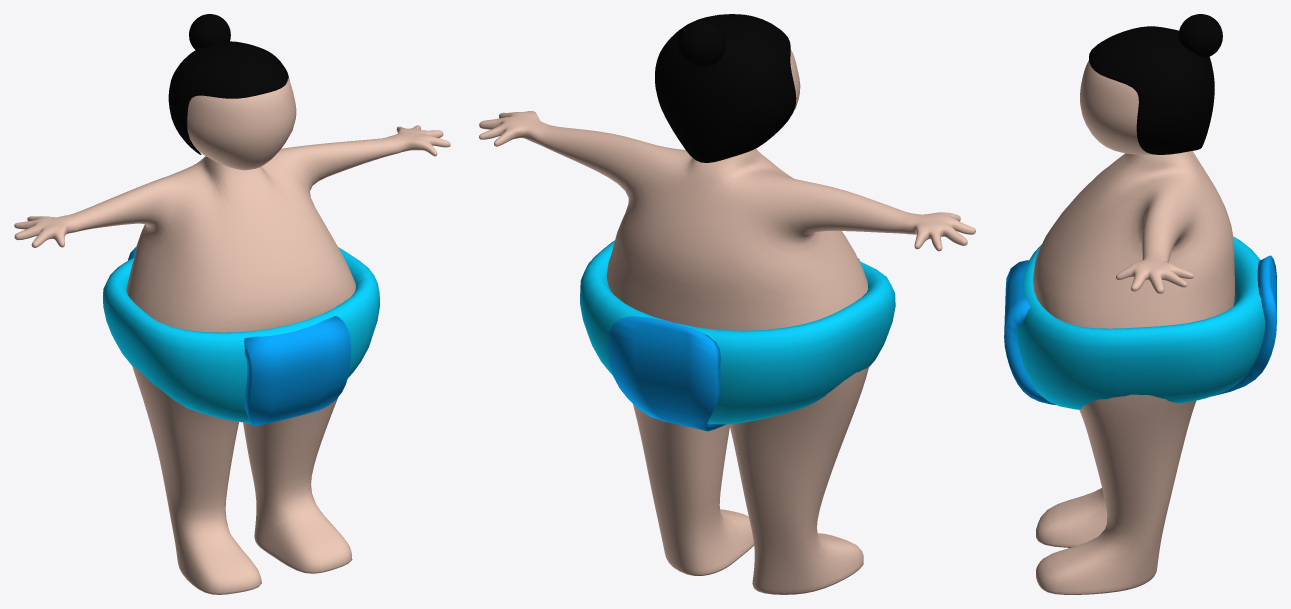
Rendered from semi sumo 5.fbx.
3 views of the same model, side by side, from view 1: azimuth 30°, elevation 25°; view 2: azimuth 150°, elevation 25°; view 3: azimuth 270°, elevation 25° (orthographic). The views are drawn at different scales.
Visible parts, largest first — view 1: Cube.029, Cube.028, Cube.027, Cube.030, Cube.026, Sphere.005; view 2: Cube.029, Cube.028, Cube.026, Cube.027, Sphere.005; view 3: Cube.029, Cube.028, Cube.026, Cube.027, Cube.030, Sphere.005.
Part boxes in pixels (x1=…): Cube.029: x1=14, y1=125, x2=450, y2=594; Cube.028: x1=103, y1=247, x2=379, y2=422; Cube.027: x1=128, y1=247, x2=351, y2=426; Cube.030: x1=187, y1=78, x2=296, y2=170; Cube.026: x1=168, y1=41, x2=289, y2=154; Sphere.005: x1=189, y1=14, x2=230, y2=49; Cube.029: x1=479, y1=111, x2=975, y2=594; Cube.028: x1=580, y1=240, x2=895, y2=424; Cube.026: x1=655, y1=14, x2=796, y2=162; Cube.027: x1=608, y1=258, x2=859, y2=431; Sphere.005: x1=678, y1=20, x2=725, y2=67; Cube.029: x1=1032, y1=151, x2=1234, y2=594; Cube.028: x1=1016, y1=236, x2=1265, y2=409; Cube.026: x1=1089, y1=26, x2=1214, y2=154; Cube.027: x1=1004, y1=255, x2=1276, y2=404; Cube.030: x1=1080, y1=60, x2=1153, y2=154; Sphere.005: x1=1178, y1=14, x2=1222, y2=57.
Size of the model in its own units: 215 by 244 by 112.
